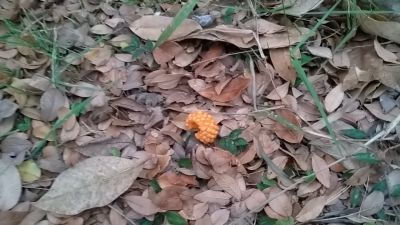eggs: (188, 109, 221, 143)
